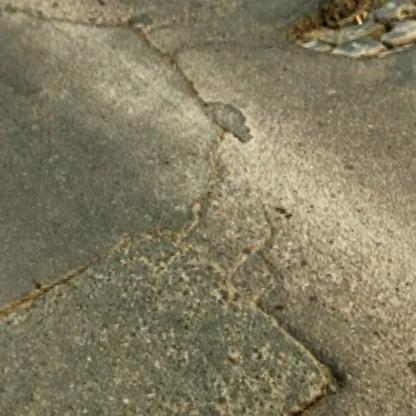pothole: (283, 0, 416, 78)
